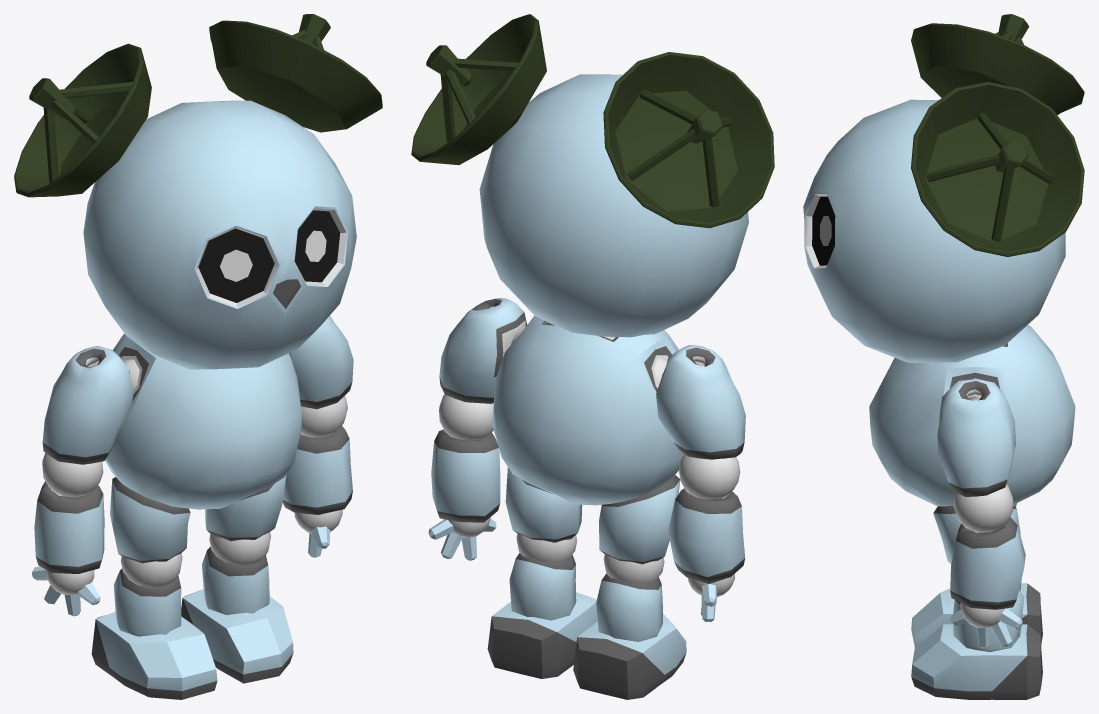
The model's file is PlayerLOW.fbx.
3 renders of one model, left to right at view 1: azimuth 30°, elevation 25°; view 2: azimuth 150°, elevation 25°; view 3: azimuth 270°, elevation 25°, orthographic. The views are drawn at different scales.
Visible parts, largest first — view 1: Head_LOW, SatalliteDish_LOW, Torso_LOW, R_Arm_LOW, R_Foot_LOW, L_Foot_LOW, R_Forearm_LOW, L_Forearm_LOW, R_Thigh_LOW, L_Arm_LOW, L_Calf_LOW, R_Calf_LOW (+7 smaller); view 2: Head_LOW, SatalliteDish_LOW, Torso_LOW, R_Arm_LOW, R_Foot_LOW, L_Arm_LOW, L_Foot_LOW, R_Forearm_LOW, L_Forearm_LOW, R_Thigh_LOW, L_Calf_LOW, R_Calf_LOW (+5 smaller); view 3: Head_LOW, SatalliteDish_LOW, Torso_LOW, L_Arm_LOW, L_Foot_LOW, L_Forearm_LOW, R_Foot_LOW, L_Elbow_LOW, L_Calf_LOW, L_Thigh_LOW, L_Hand_LOW.
Boxes of the visible parts, bbox=[...] form: Head_LOW: bbox=[83, 100, 356, 369]; SatalliteDish_LOW: bbox=[14, 14, 382, 197]; Torso_LOW: bbox=[105, 334, 302, 509]; R_Arm_LOW: bbox=[42, 346, 133, 464]; R_Foot_LOW: bbox=[91, 612, 217, 699]; L_Foot_LOW: bbox=[181, 589, 293, 683]; R_Forearm_LOW: bbox=[34, 481, 104, 573]; L_Forearm_LOW: bbox=[282, 426, 352, 514]; R_Thigh_LOW: bbox=[110, 477, 190, 563]; L_Arm_LOW: bbox=[289, 316, 353, 409]; L_Calf_LOW: bbox=[202, 546, 269, 614]; R_Calf_LOW: bbox=[113, 568, 181, 636]; Head_LOW: bbox=[479, 74, 748, 337]; SatalliteDish_LOW: bbox=[411, 14, 774, 228]; Torso_LOW: bbox=[492, 316, 684, 505]; R_Arm_LOW: bbox=[656, 344, 745, 459]; R_Foot_LOW: bbox=[573, 614, 686, 699]; L_Arm_LOW: bbox=[439, 298, 527, 403]; L_Foot_LOW: bbox=[487, 592, 597, 678]; R_Forearm_LOW: bbox=[668, 488, 745, 583]; L_Forearm_LOW: bbox=[431, 429, 500, 522]; R_Thigh_LOW: bbox=[599, 475, 680, 564]; L_Calf_LOW: bbox=[509, 553, 576, 620]; R_Calf_LOW: bbox=[596, 573, 662, 641]; Head_LOW: bbox=[803, 99, 1065, 362]; SatalliteDish_LOW: bbox=[911, 14, 1084, 256]; Torso_LOW: bbox=[869, 325, 1075, 506]; L_Arm_LOW: bbox=[937, 378, 1015, 496]; L_Foot_LOW: bbox=[911, 624, 1042, 699]; L_Forearm_LOW: bbox=[950, 517, 1025, 609]; R_Foot_LOW: bbox=[911, 583, 1042, 647]; L_Elbow_LOW: bbox=[954, 484, 1013, 532]; L_Calf_LOW: bbox=[953, 590, 1024, 652]; L_Thigh_LOW: bbox=[933, 506, 1020, 564]; L_Hand_LOW: bbox=[960, 603, 1004, 628].
Bounding box in the file's own units: 72.32 × 126 × 52.99.
